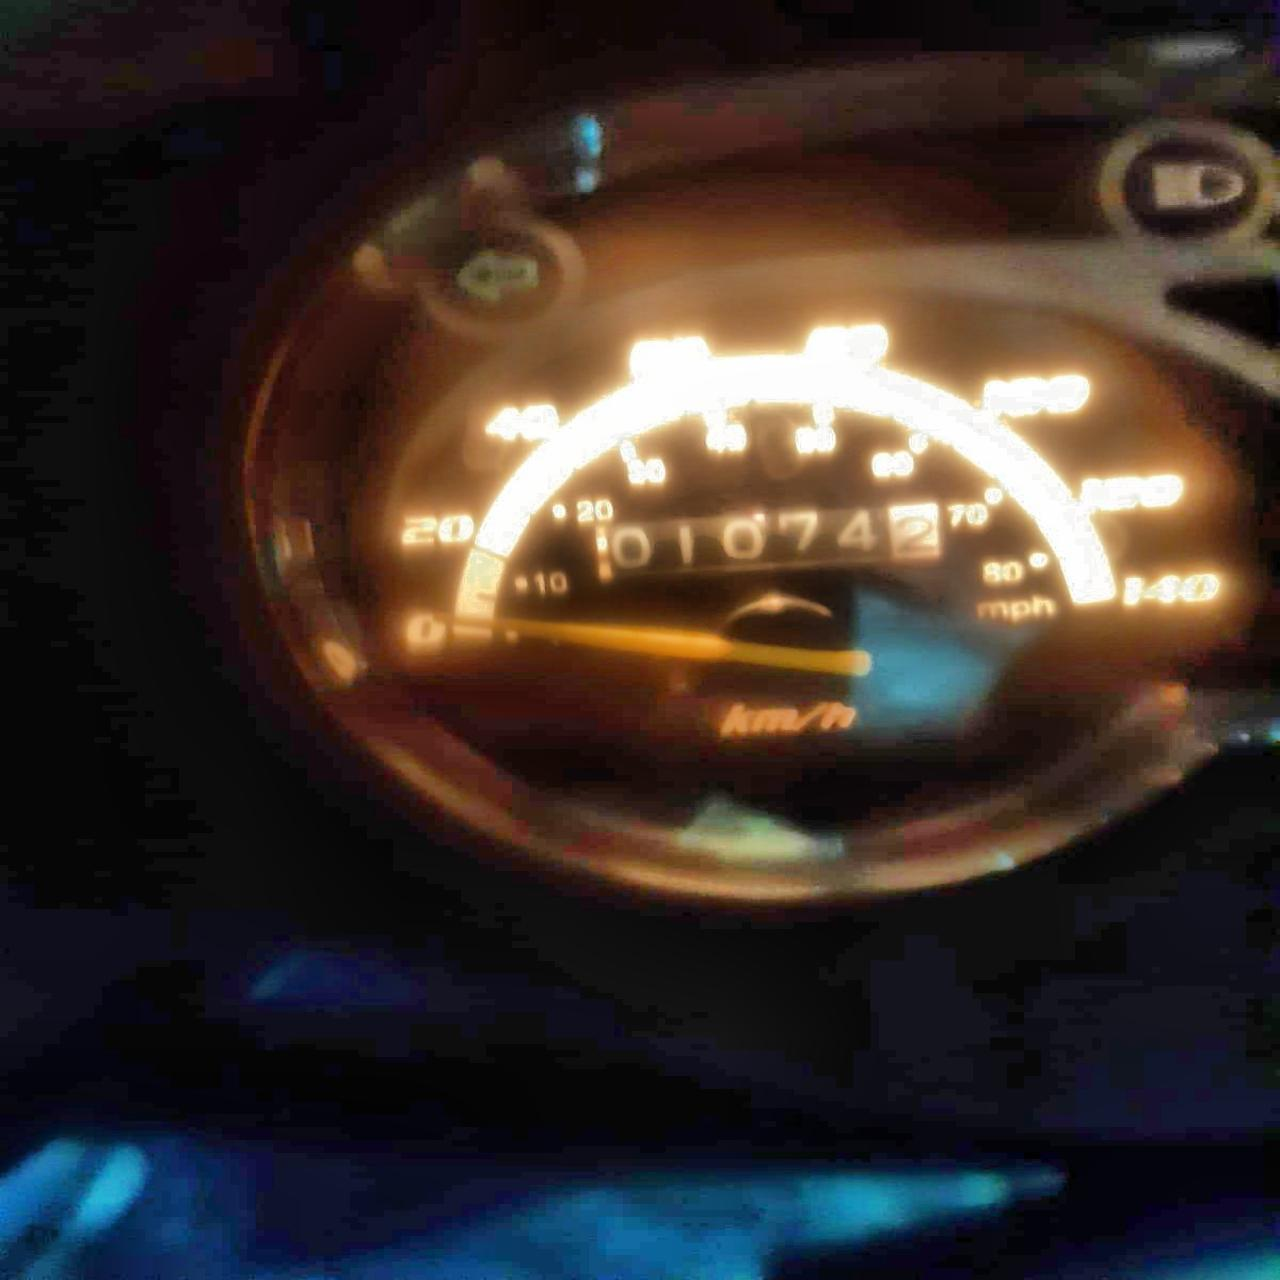0: (607, 525, 656, 572), (719, 517, 765, 565), (593, 496, 613, 522)
1: (673, 516, 704, 577)
2: (892, 510, 939, 564)
4: (833, 506, 877, 554)
7: (774, 508, 825, 557)
odometer: (592, 492, 949, 591)
